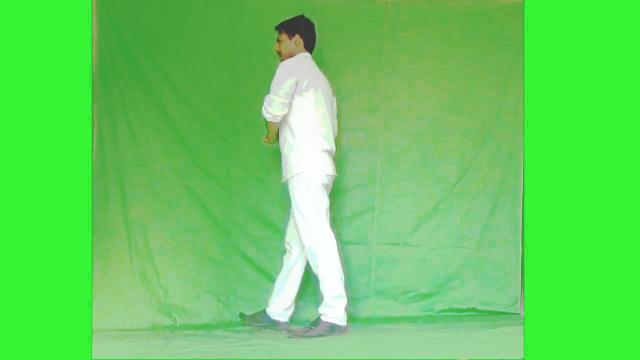berjalan: (238, 9, 350, 345)
